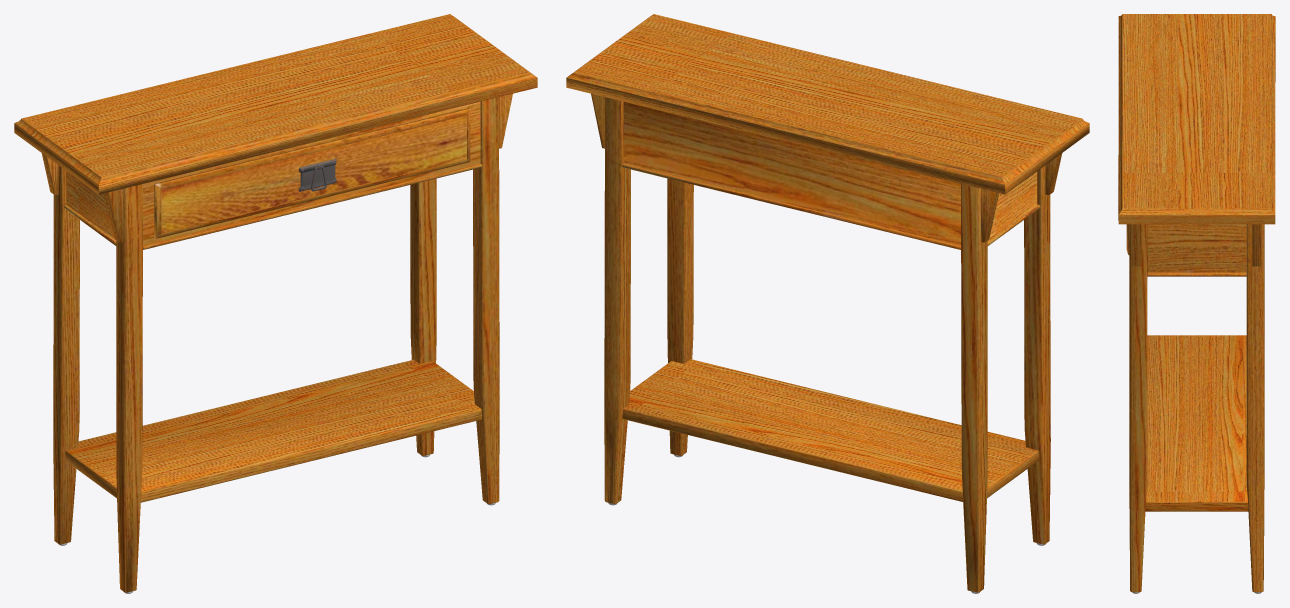
File: B07GZY278M.glb
3 views of the same model, side by side, from view 1: azimuth 30°, elevation 25°; view 2: azimuth 150°, elevation 25°; view 3: azimuth 270°, elevation 25° (orthographic). The views are drawn at different scales.
Visible parts, largest first — view 1: B07GZY278M; view 2: B07GZY278M; view 3: B07GZY278M.
Part boxes in pixels (x1,y1,x2,y2): B07GZY278M: [14, 14, 537, 593]; B07GZY278M: [566, 14, 1089, 593]; B07GZY278M: [1118, 14, 1275, 593].
Bounding box in the file's own units: 0.762 × 0.7112 × 0.254.
1 material, 1 textured.
